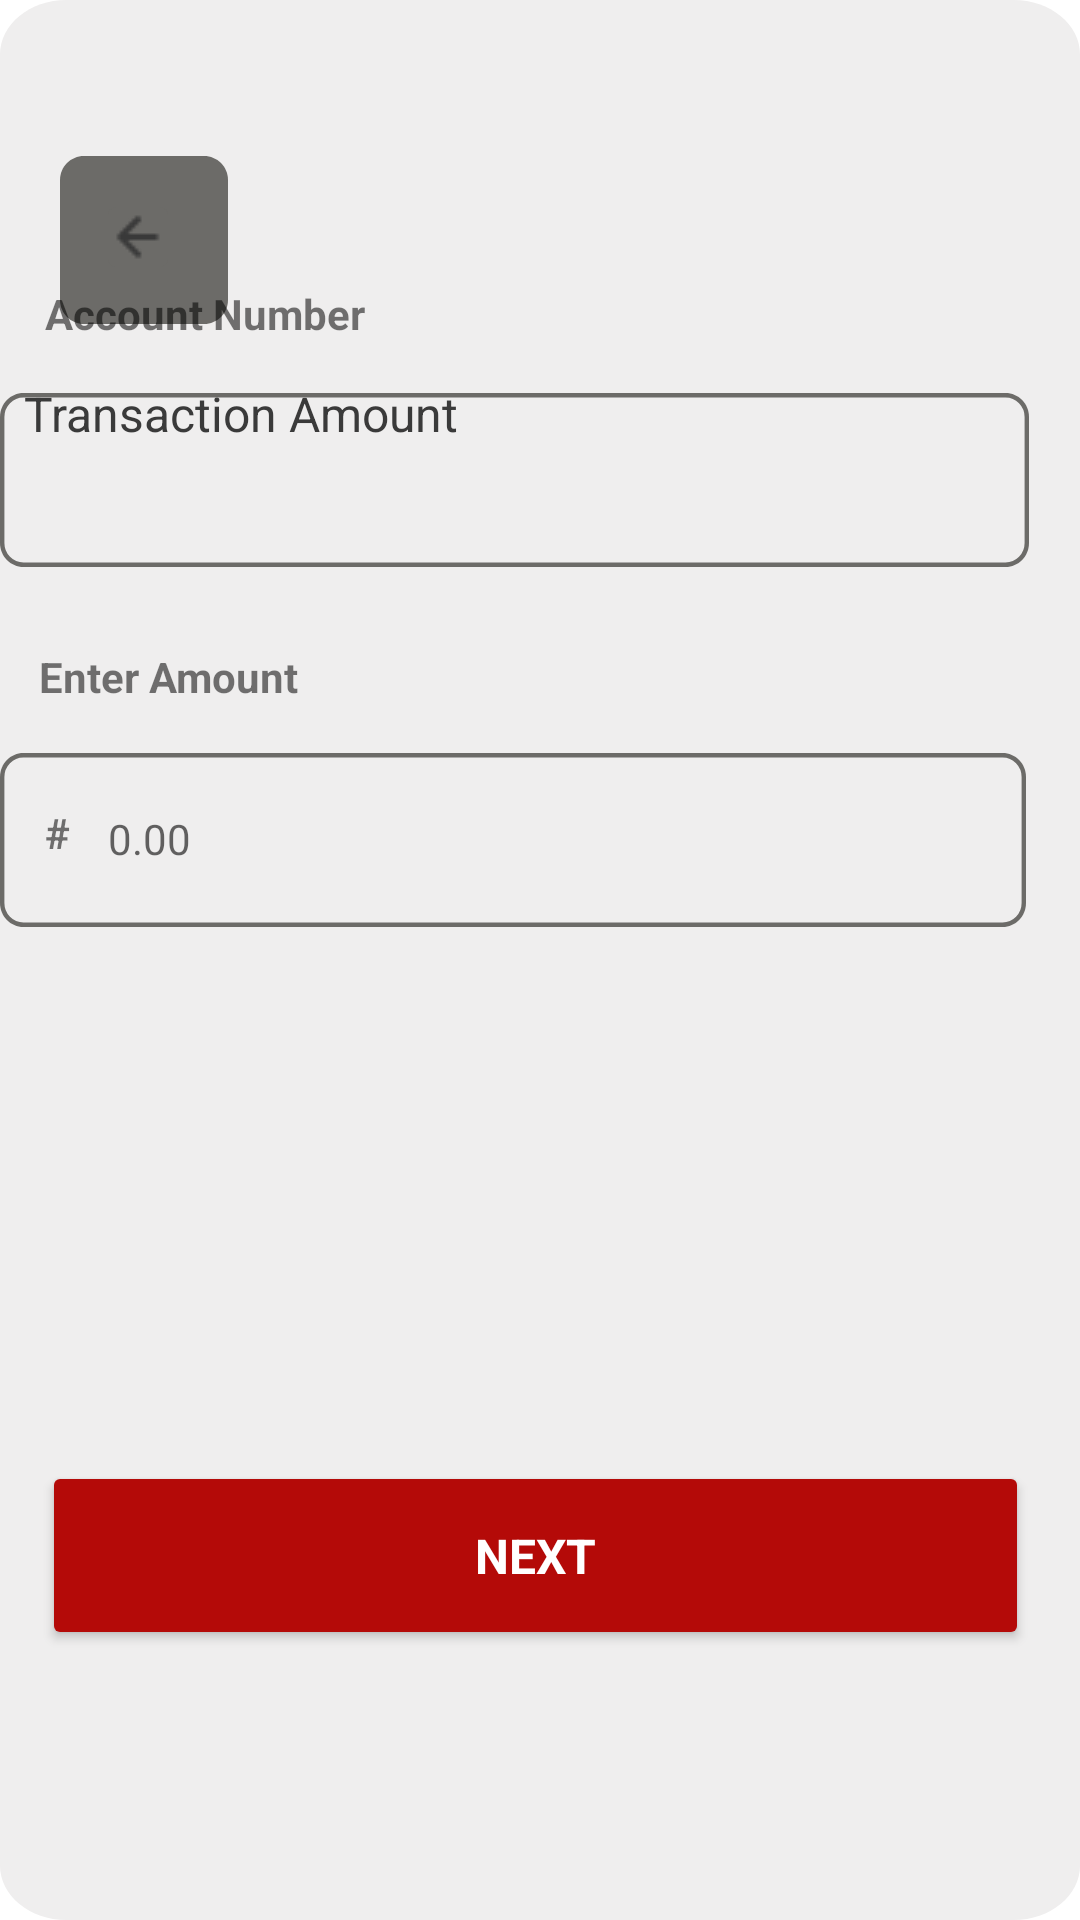

Icon click points for this 1080px×1920px phone screenshot, format (x=x, y=y):
Back icon: (x=138, y=237)
